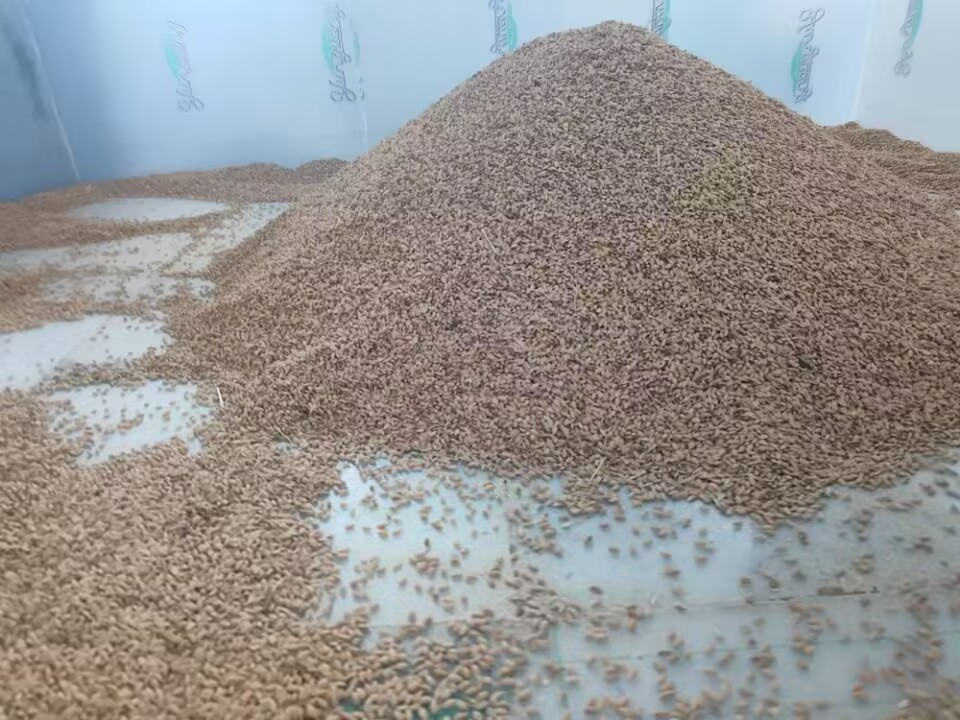Grain: (391, 19, 854, 322)
